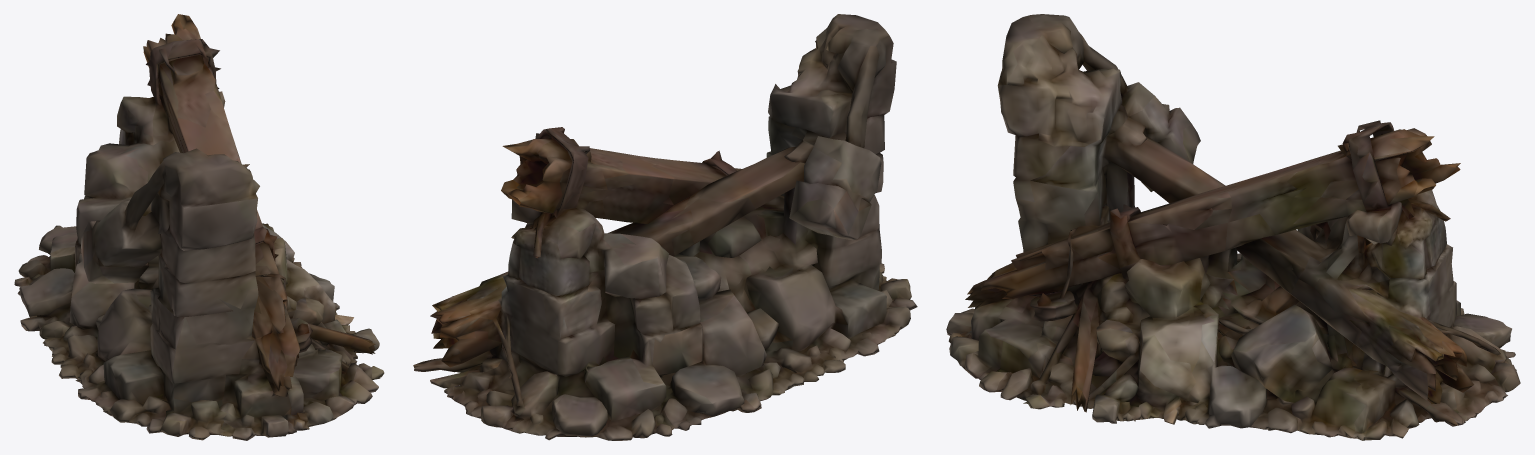
Rendered from collapsed-timber-masonry-pile.glb.
3 views of the same model, side by side, from view 1: azimuth 30°, elevation 25°; view 2: azimuth 150°, elevation 25°; view 3: azimuth 270°, elevation 25° (orthographic). The views are drawn at different scales.
Parts seen in each view (by area): view 1: tripo_node_2e428d37-d7d4-4ecf-8c24-1e16a4fb101f; view 2: tripo_node_2e428d37-d7d4-4ecf-8c24-1e16a4fb101f; view 3: tripo_node_2e428d37-d7d4-4ecf-8c24-1e16a4fb101f.
Boxes of the visible parts, box(x1,y1,x2,y2) form: tripo_node_2e428d37-d7d4-4ecf-8c24-1e16a4fb101f: box(14, 14, 384, 440); tripo_node_2e428d37-d7d4-4ecf-8c24-1e16a4fb101f: box(413, 14, 917, 440); tripo_node_2e428d37-d7d4-4ecf-8c24-1e16a4fb101f: box(946, 14, 1520, 440).
Size of the model in its own units: 0.6888 by 0.5582 by 1.
1 material, 1 textured.
